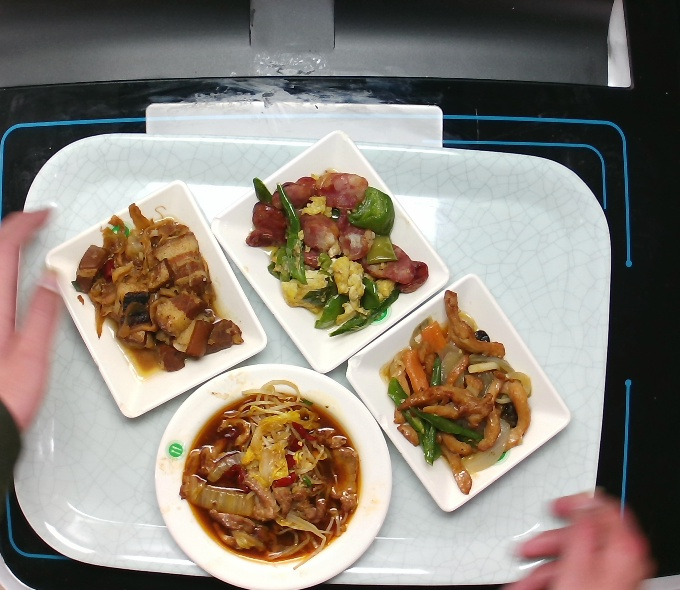wcq-HongShaoRou: (69, 203, 245, 380)
wcq-QingJiaoJiDanChaoDaChang: (247, 168, 429, 337)
wcq-QingJiaoRouSi: (377, 288, 535, 499)
wcq-ShuiZhuRouPian: (181, 386, 364, 563)
